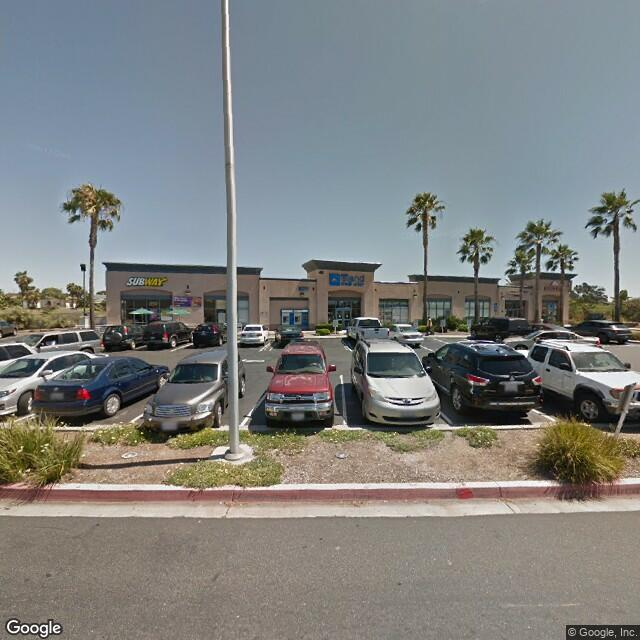litter: (218, 500, 248, 506), (120, 452, 137, 461), (336, 452, 348, 460), (380, 498, 392, 503)
